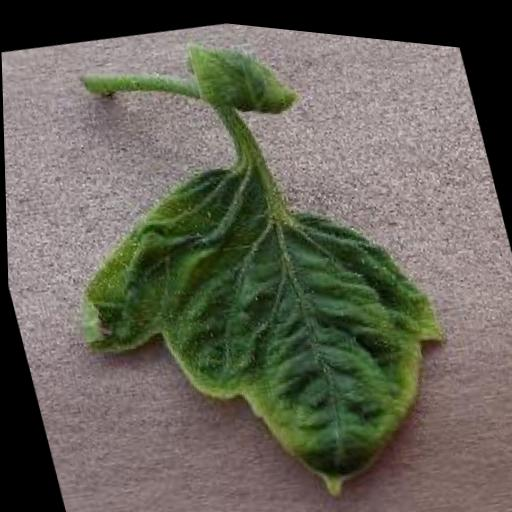Yellow Leaf Curl Virus: (49, 108, 486, 512)
